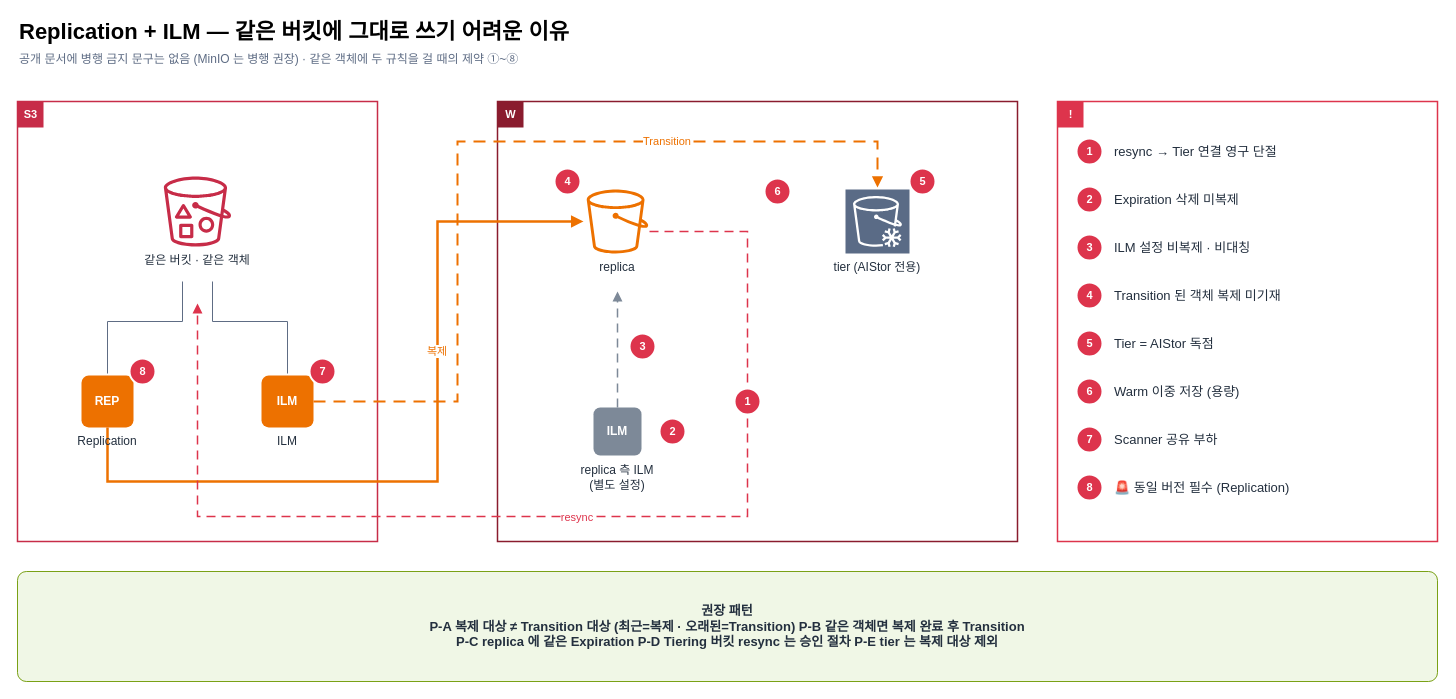
This 1456x699 diagram has some shape labels left out. Here are the shapes that lost their labels. From the top down, the box of each, then its label:
(16, 100, 378, 542): Hot · 2026-02-07
(496, 100, 1018, 542): Warm · 2026-06-06
(1056, 100, 1438, 542): 제약
